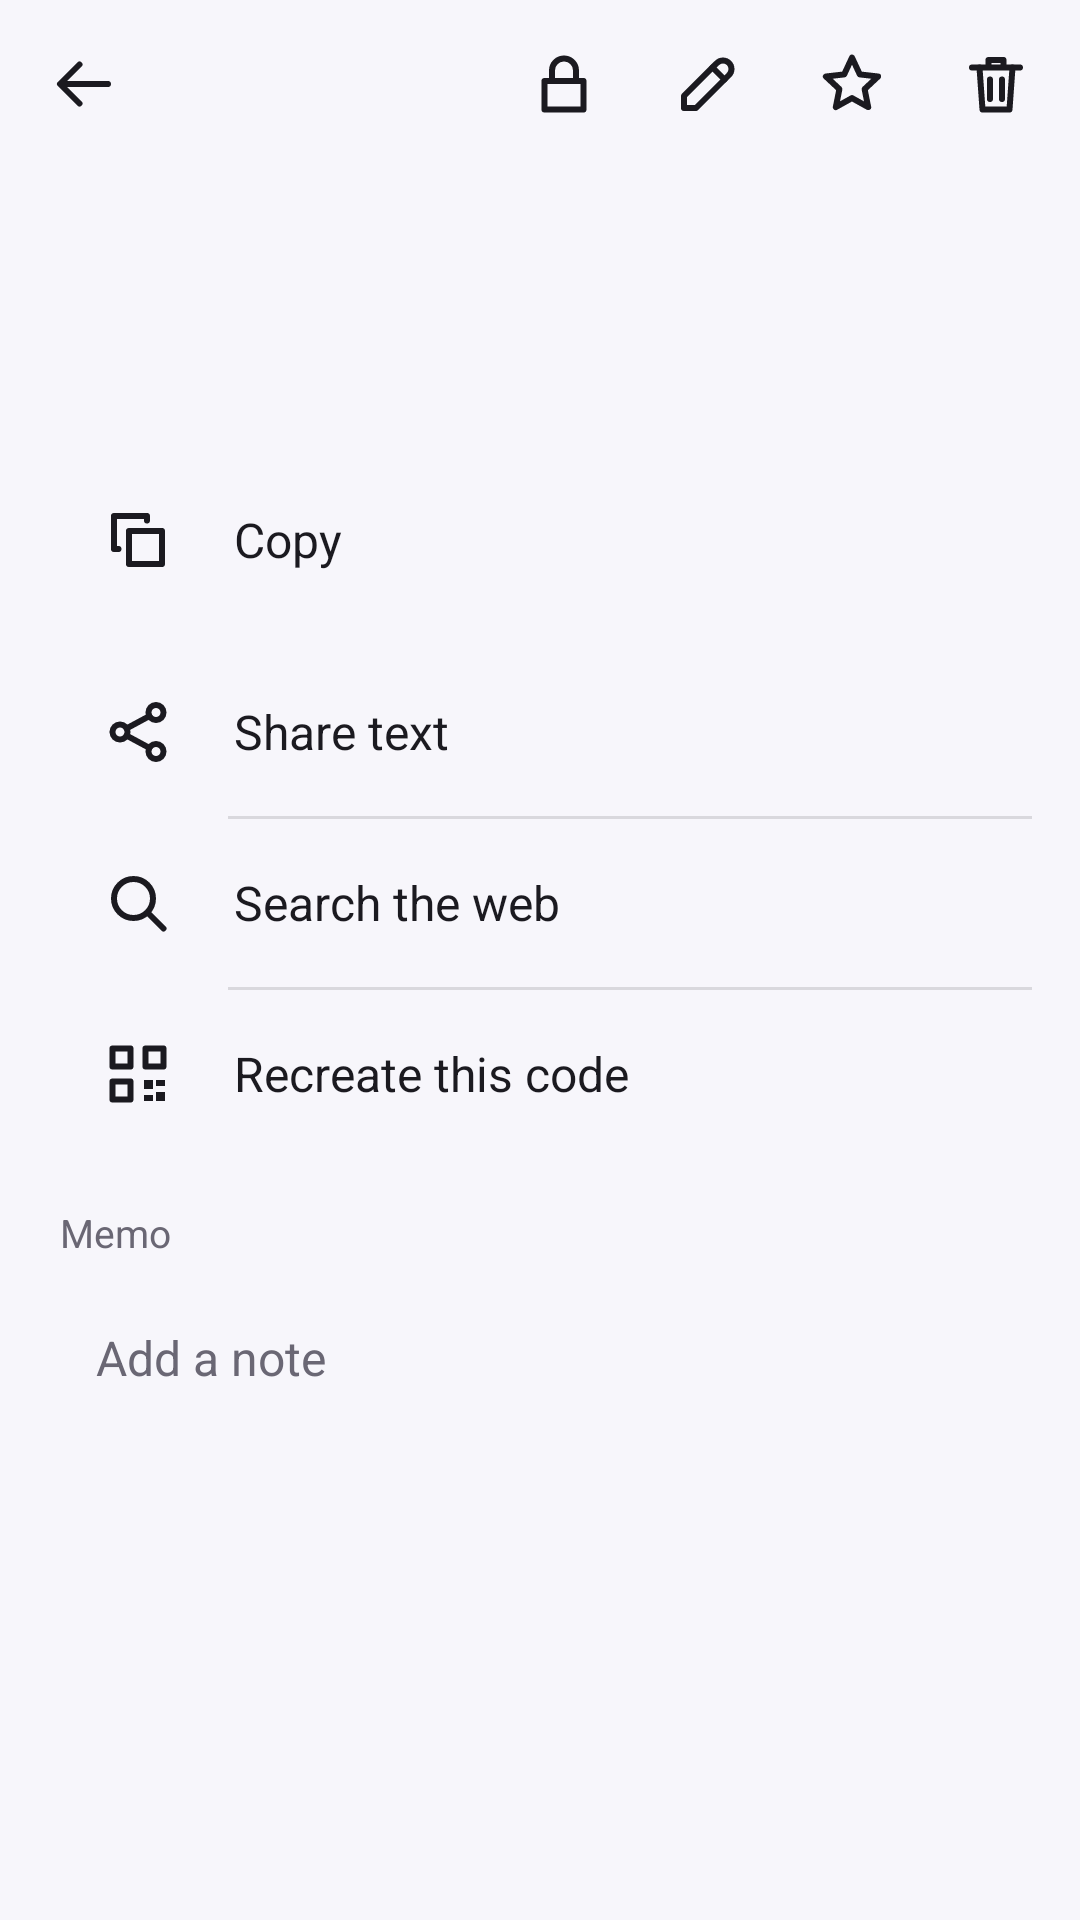

Screen size 1080 x 1920. Icon name, then its box in pixels as Rect(x1, y1, x2, y2):
Back: Rect(57, 61, 111, 107)
Delete: Rect(969, 57, 1023, 113)
Favorite: Rect(822, 54, 881, 111)
Name this item: Rect(681, 57, 735, 111)
Protect this item: Rect(541, 55, 587, 113)
